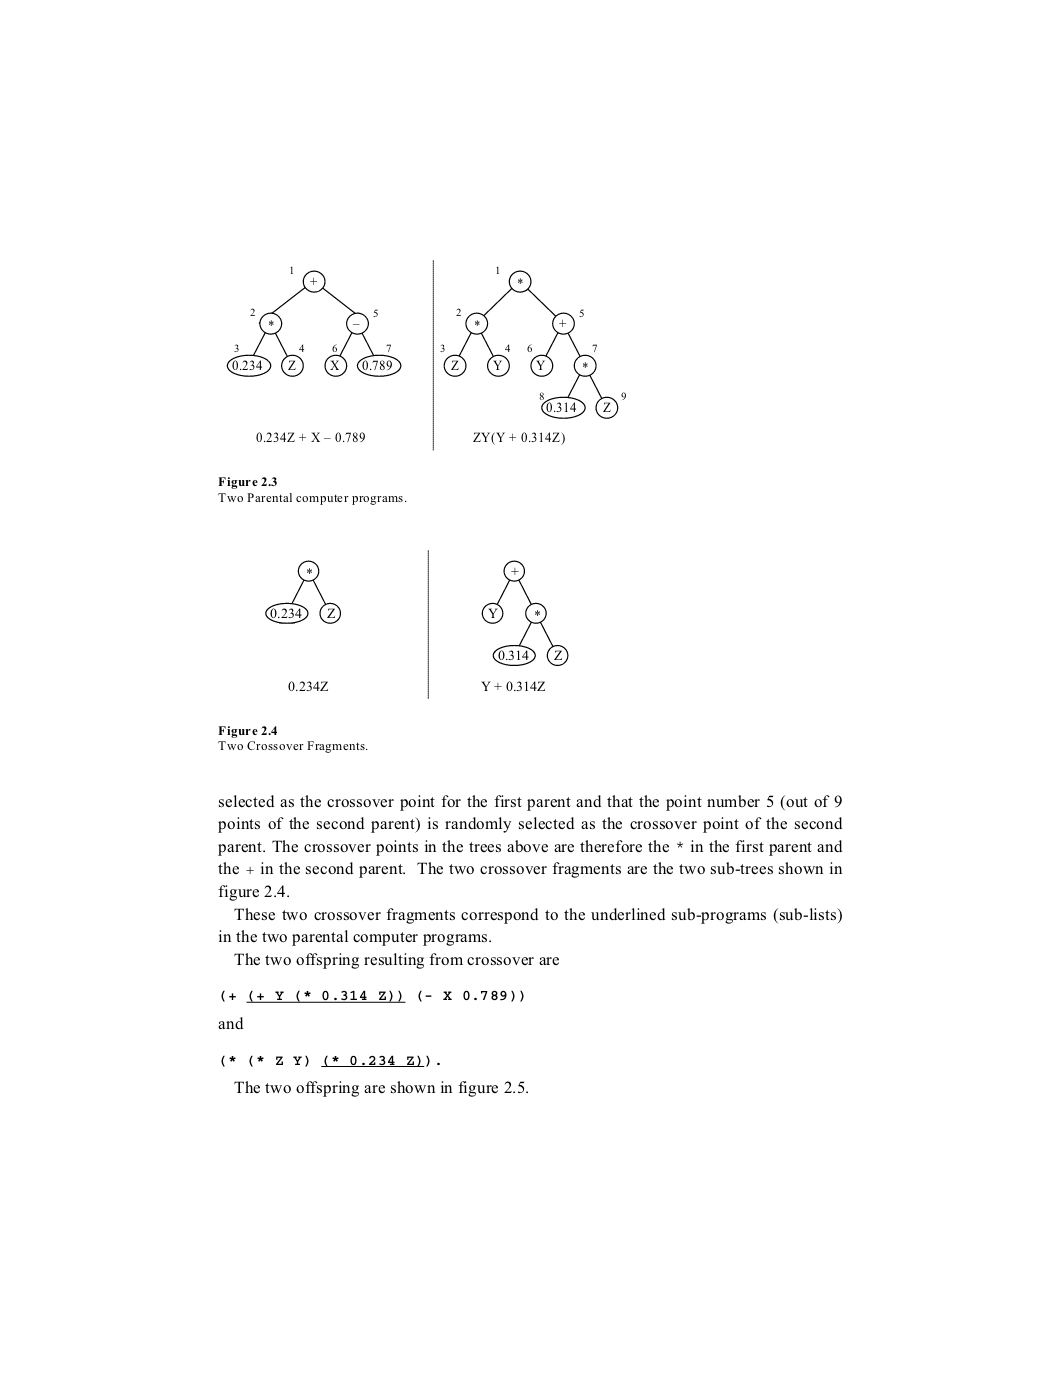figure: (434, 260, 625, 450), (226, 266, 401, 442), (481, 559, 568, 691), (265, 559, 340, 691)
formula: (221, 989, 523, 1003), (221, 1054, 439, 1067)
